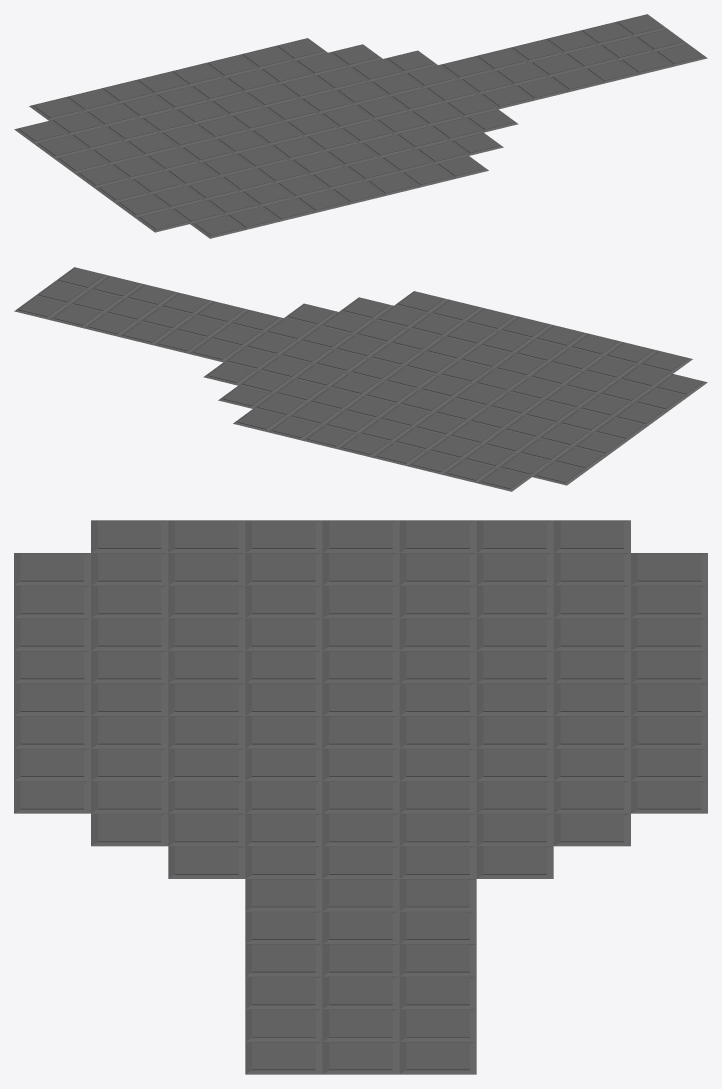
Rendered from floor tiles.fbx.
The picture shows the model from 3 angles, top to bottom: view 1: azimuth 30°, elevation 25°; view 2: azimuth 150°, elevation 25°; view 3: azimuth 270°, elevation 25°; orthographic projection. The views are drawn at different scales.
Parts seen in each view (by area): view 1: floor tiles; view 2: floor tiles; view 3: floor tiles.
Part boxes in pixels (x1,y1,x2,y2): floor tiles: (14,14,707,238); floor tiles: (14,267,707,491); floor tiles: (14,520,707,1074).
Bounding box in the file's own units: 34 × 0.0628 × 18.
